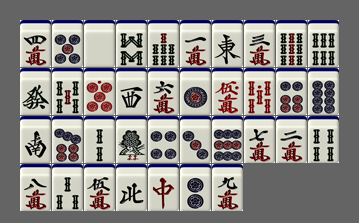0m: (212, 68, 243, 115)
0p: (84, 68, 115, 115)
0s: (244, 68, 275, 115)
1m: (180, 20, 211, 67)
1p: (180, 68, 211, 115)
1s: (116, 116, 147, 163)
1z: (212, 20, 243, 67)
2m: (276, 116, 307, 163)
2p: (180, 164, 211, 211)
2s: (84, 116, 115, 163)
2z: (20, 116, 51, 163)
3m: (244, 20, 275, 67)
3p: (180, 116, 211, 163)
3s: (52, 164, 83, 211)
3z: (116, 68, 147, 115)
4m: (20, 20, 51, 67)
4p: (148, 116, 179, 163)
4s: (308, 116, 339, 163)
4z: (116, 164, 147, 211)
5m: (84, 164, 115, 211)
5p: (52, 20, 83, 67)
5s: (52, 68, 83, 115)
5z: (84, 20, 115, 67)
6m: (148, 68, 179, 115)
6p: (276, 68, 307, 115)
6s: (308, 20, 339, 67)
6z: (20, 68, 51, 115)
7m: (244, 116, 275, 163)
7p: (52, 116, 83, 163)
7s: (148, 20, 179, 67)
7z: (148, 164, 179, 211)
8m: (20, 164, 51, 211)
8p: (308, 68, 339, 115)
8s: (116, 20, 147, 67)
9m: (212, 164, 243, 211)
9p: (212, 116, 243, 163)
9s: (276, 20, 307, 67)
